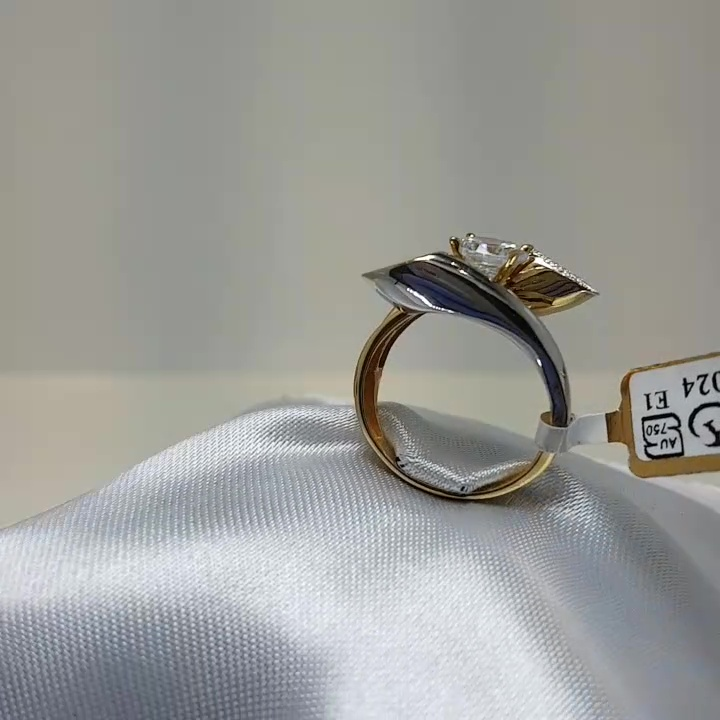Ring 7: (331, 224, 615, 528)
